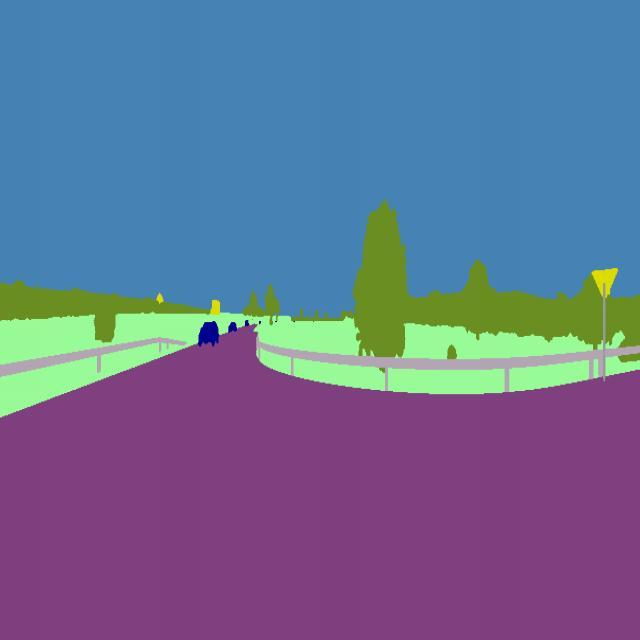safe: (195, 318, 222, 350), (226, 316, 238, 337)
